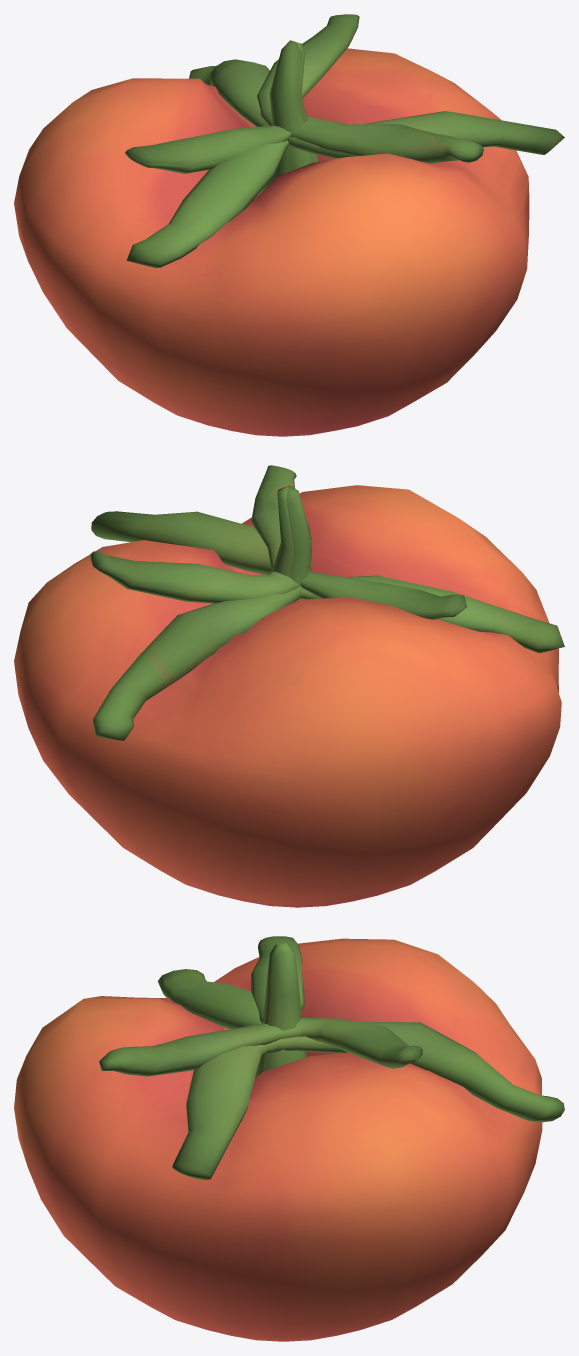
File: txt_Tomate_v1.fbx
The picture shows the model from 3 angles, top to bottom: view 1: azimuth 30°, elevation 25°; view 2: azimuth 150°, elevation 25°; view 3: azimuth 270°, elevation 25°; orthographic projection. The views are drawn at different scales.
Parts seen in each view (by area): view 1: Sphere; view 2: Sphere; view 3: Sphere.
Boxes of the visible parts, x1,y1,x2,y2 form: Sphere: (14, 14, 564, 436); Sphere: (14, 465, 564, 907); Sphere: (14, 936, 564, 1341).
Size of the model in its own units: 200 by 151 by 200.
